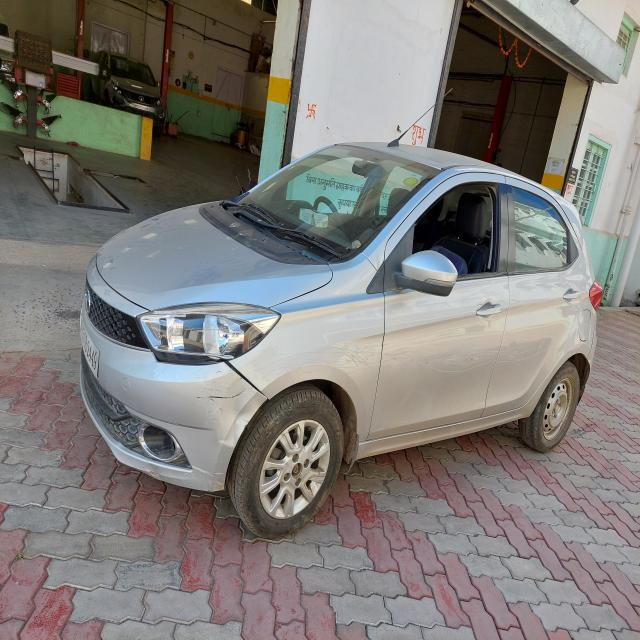damage: (382, 335, 500, 383), (269, 333, 382, 380), (190, 364, 256, 440), (498, 334, 552, 368)
